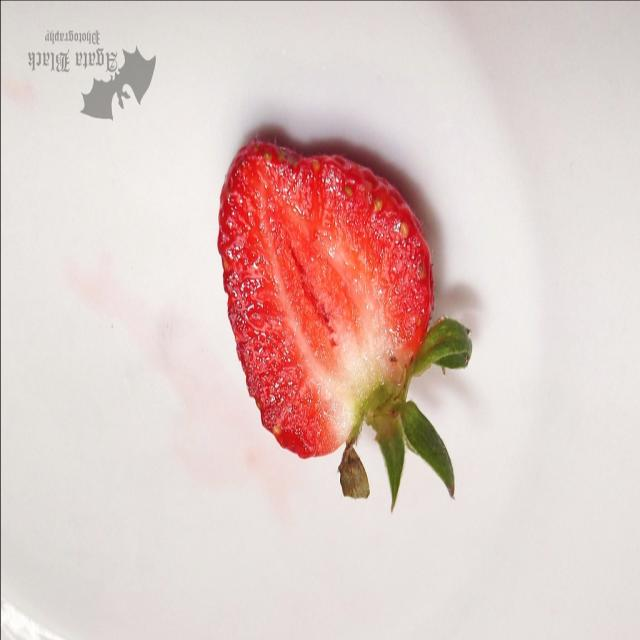strawberry: (198, 104, 488, 570)
